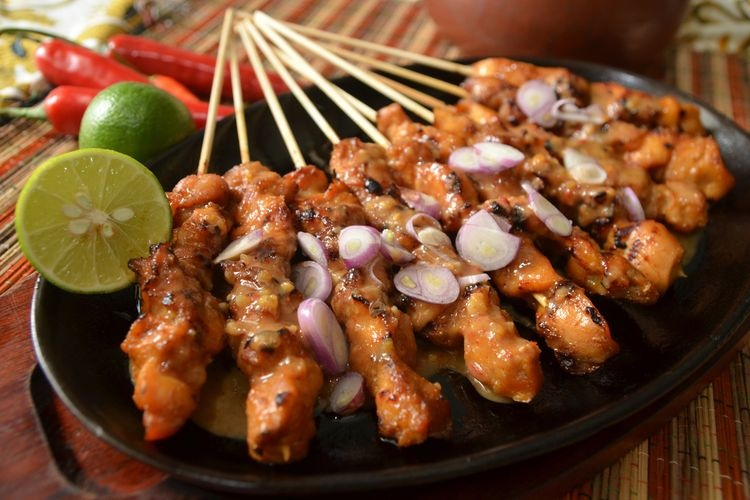sate: (255, 12, 637, 379), (221, 21, 324, 460), (121, 22, 229, 432)
